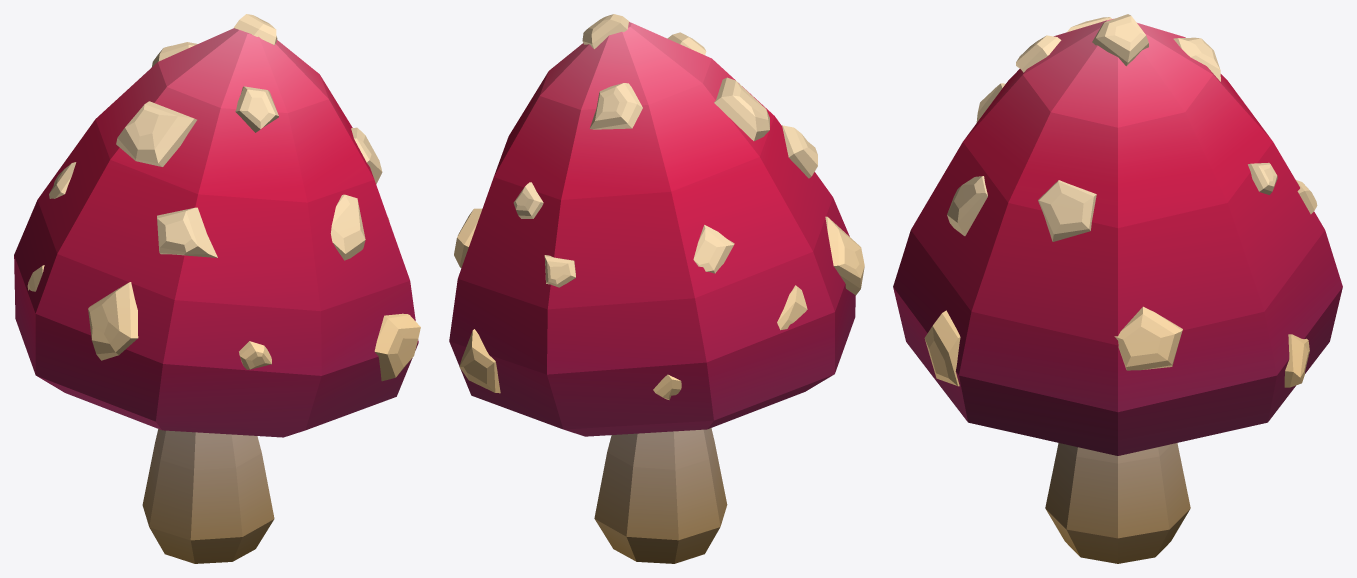
The model's file is Gradient_Mushroom_Red_small.glb.
3 views of the same model, side by side, from view 1: azimuth 30°, elevation 25°; view 2: azimuth 150°, elevation 25°; view 3: azimuth 270°, elevation 25° (orthographic). The views are drawn at different scales.
Parts seen in each view (by area): view 1: Red Mushroom small g; view 2: Red Mushroom small g; view 3: Red Mushroom small g.
Part boxes in pixels (left/top/right/bottom): Red Mushroom small g: left=14, top=14, right=420, bottom=563; Red Mushroom small g: left=449, top=14, right=864, bottom=563; Red Mushroom small g: left=893, top=14, right=1342, bottom=563.
Bounding box in the file's own units: 0.2356 × 0.3201 × 0.2376.
1 material, 1 textured.
